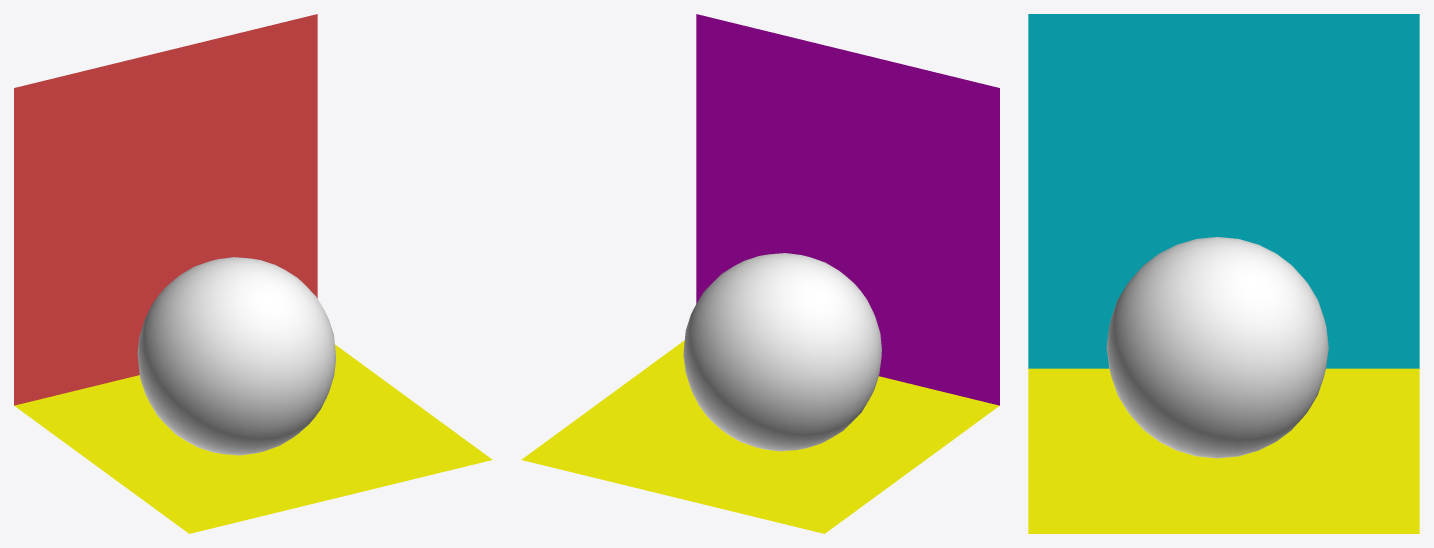
The model's file is TestCubeCave.gltf.
3 views of the same model, side by side, from view 1: azimuth 30°, elevation 25°; view 2: azimuth 150°, elevation 25°; view 3: azimuth 270°, elevation 25° (orthographic). The views are drawn at different scales.
Visible parts, largest first — view 1: Plane (3), Plane, Sphere; view 2: Plane (1), Plane, Sphere; view 3: Plane (2), Plane, Sphere.
Part boxes in pixels (x1=…): Plane (3): x1=14, y1=14, x2=317, y2=405; Plane: x1=14, y1=344, x2=492, y2=533; Sphere: x1=137, y1=257, x2=335, y2=455; Plane (1): x1=696, y1=14, x2=999, y2=405; Plane: x1=521, y1=340, x2=999, y2=533; Sphere: x1=683, y1=253, x2=881, y2=451; Plane (2): x1=1028, y1=14, x2=1419, y2=368; Plane: x1=1028, y1=368, x2=1419, y2=533; Sphere: x1=1106, y1=237, x2=1328, y2=458.
Bounding box in the file's own units: 10 × 10.22 × 10.
